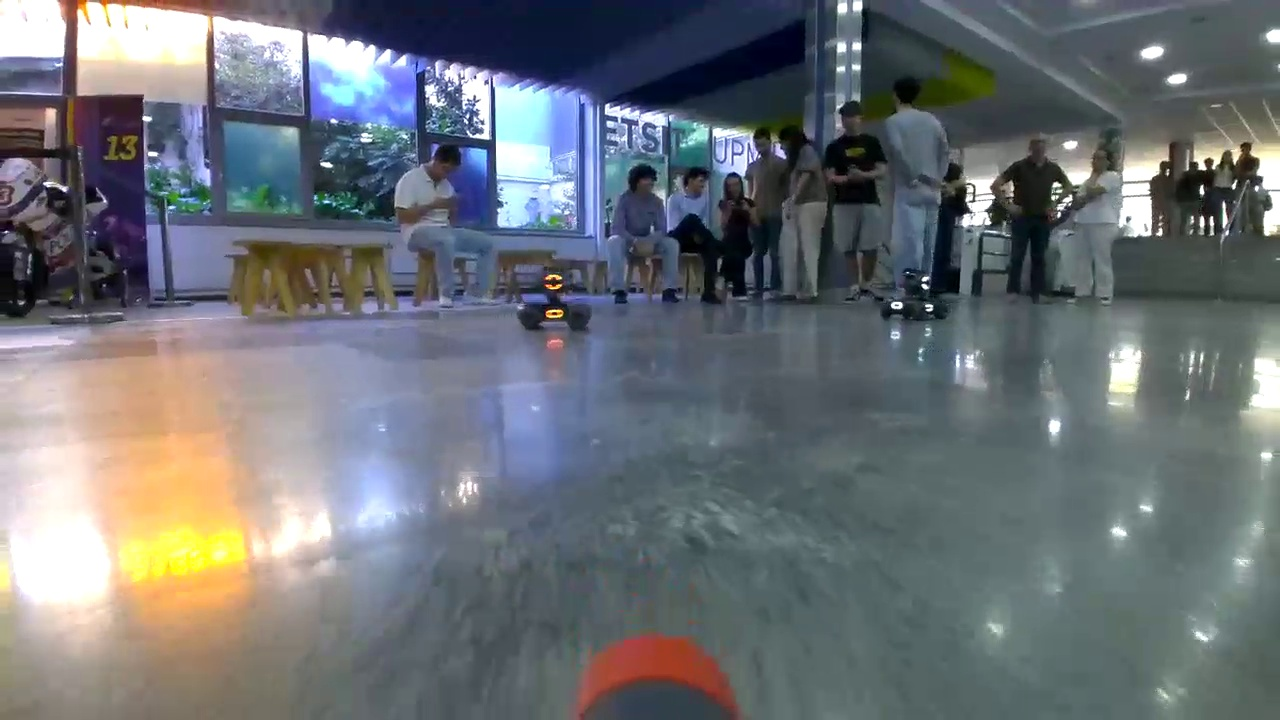robot: (517, 265, 593, 329), (879, 265, 948, 322)
